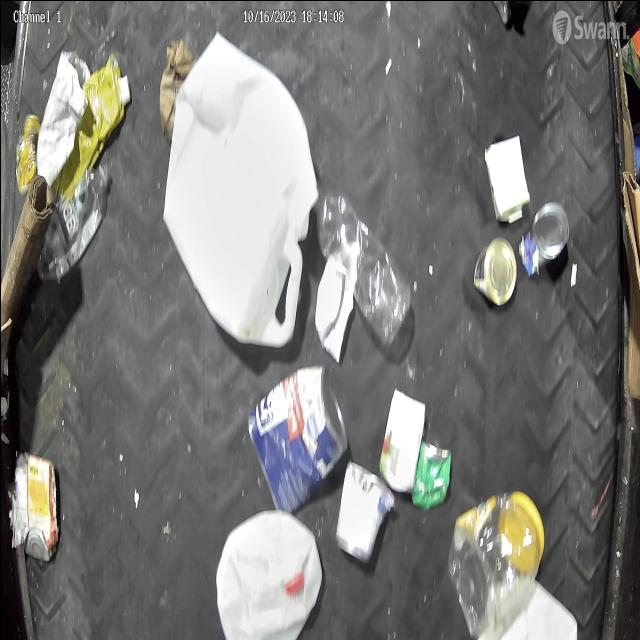can: (246, 364, 348, 509), (23, 448, 58, 560), (519, 200, 569, 278), (472, 237, 516, 305), (411, 436, 450, 510)
milk_jug: (161, 30, 318, 345), (215, 508, 322, 640)
non_white_jug: (54, 52, 130, 196)
plastic_bottle: (316, 188, 412, 344), (448, 486, 544, 638), (36, 162, 110, 282)
